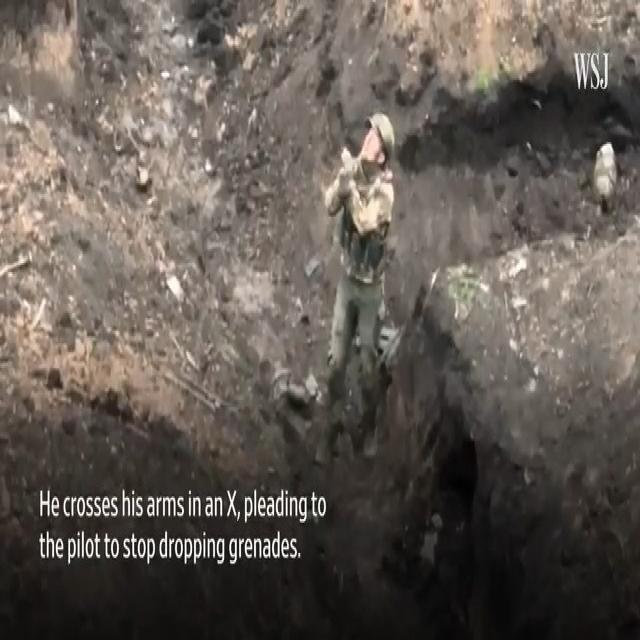MIL_Pax: (319, 113, 394, 460)
